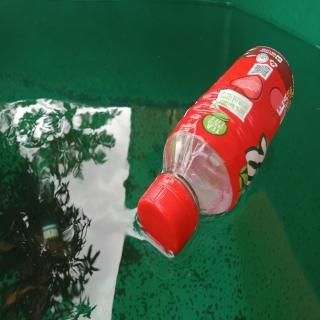bottle: (137, 44, 295, 255)
